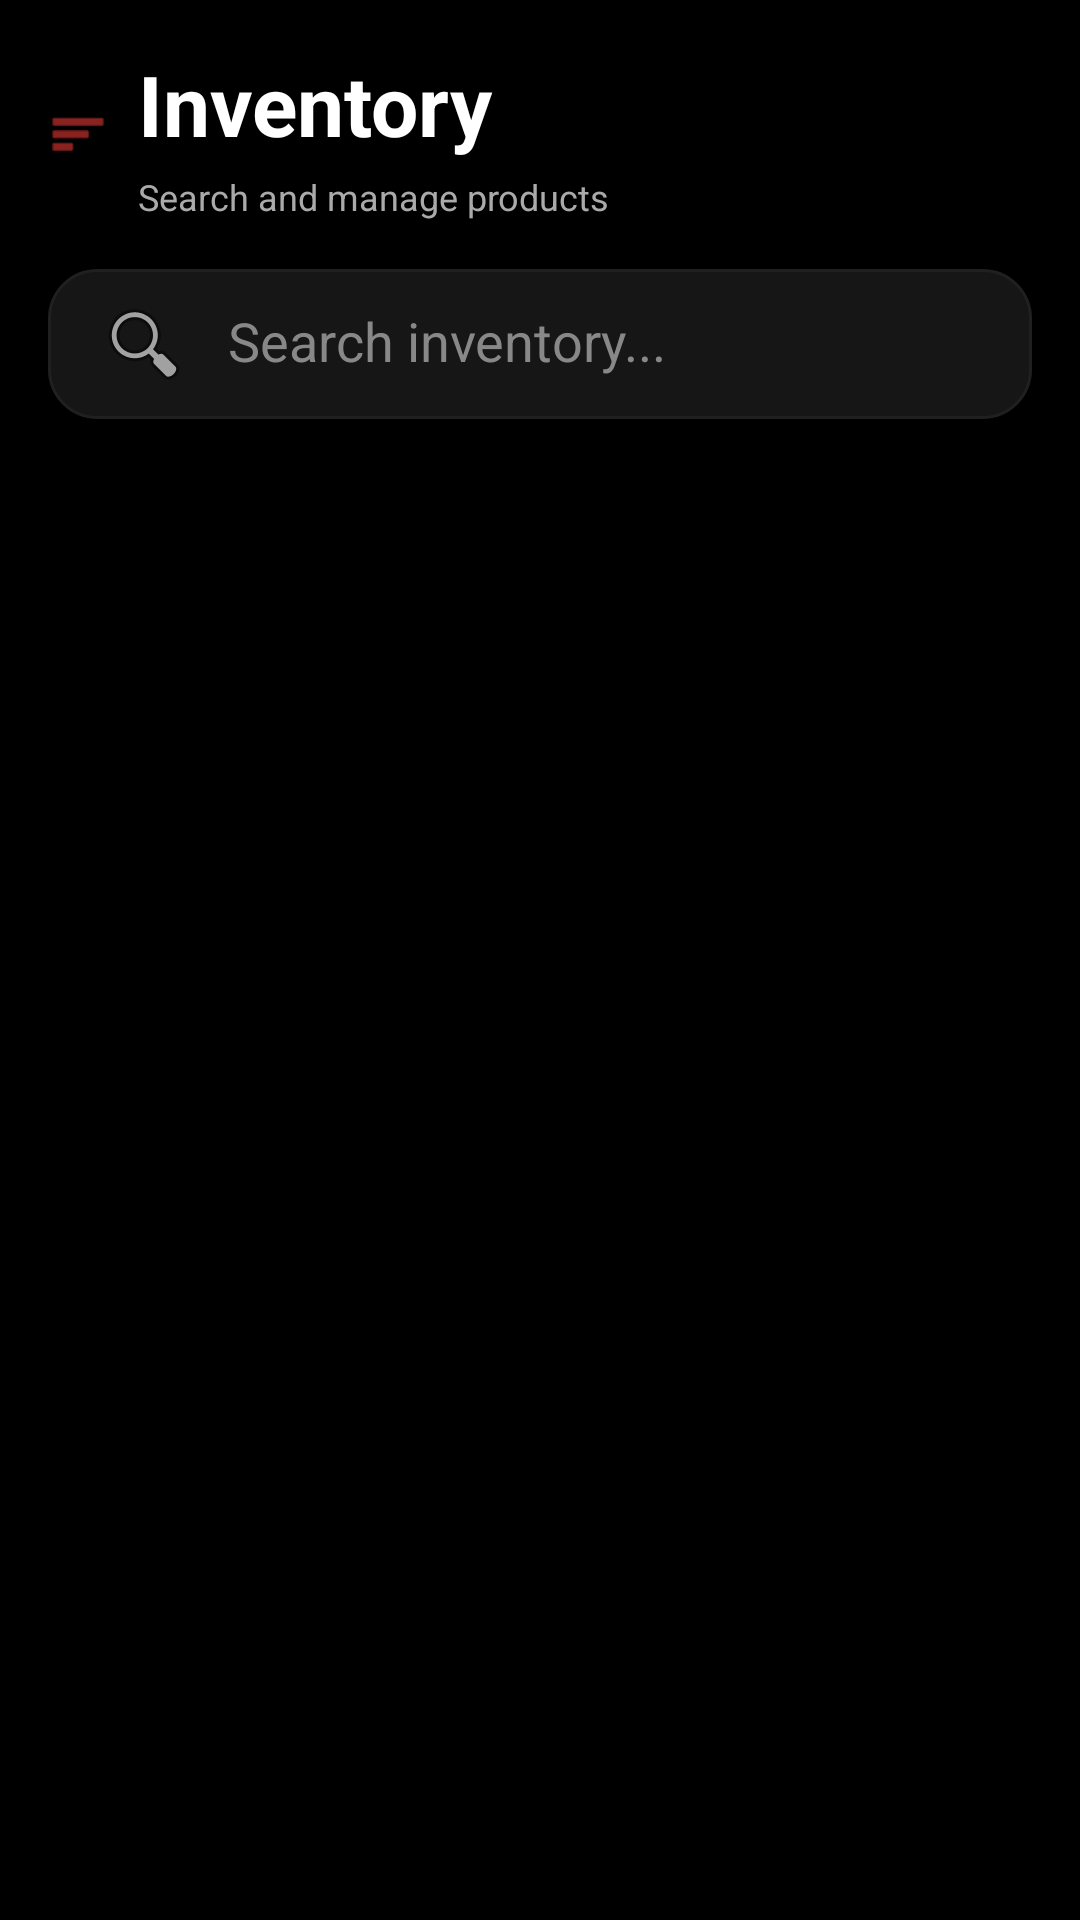

Screen size 1080px x 1920px. Icon name, then its center in pixels as (x=x, y=y):
sort by size: (x=78, y=134)
